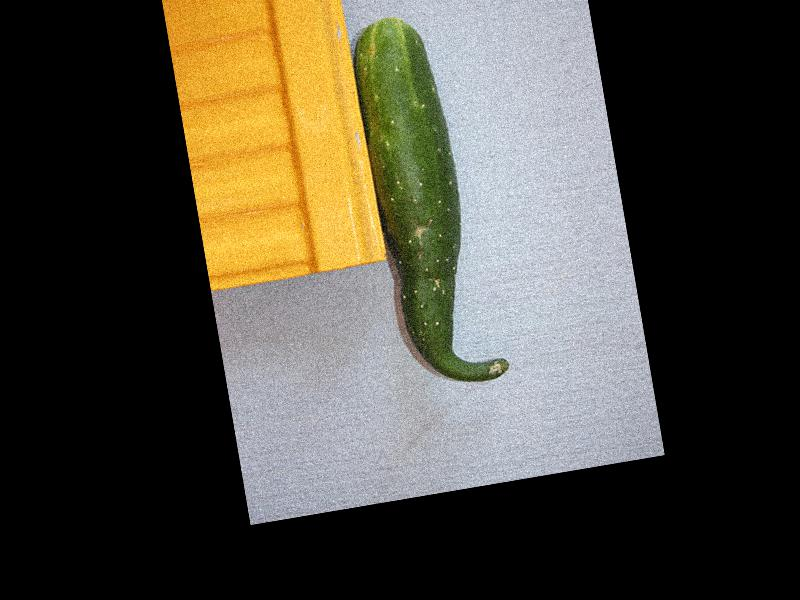Cucumber: (346, 10, 511, 395)
